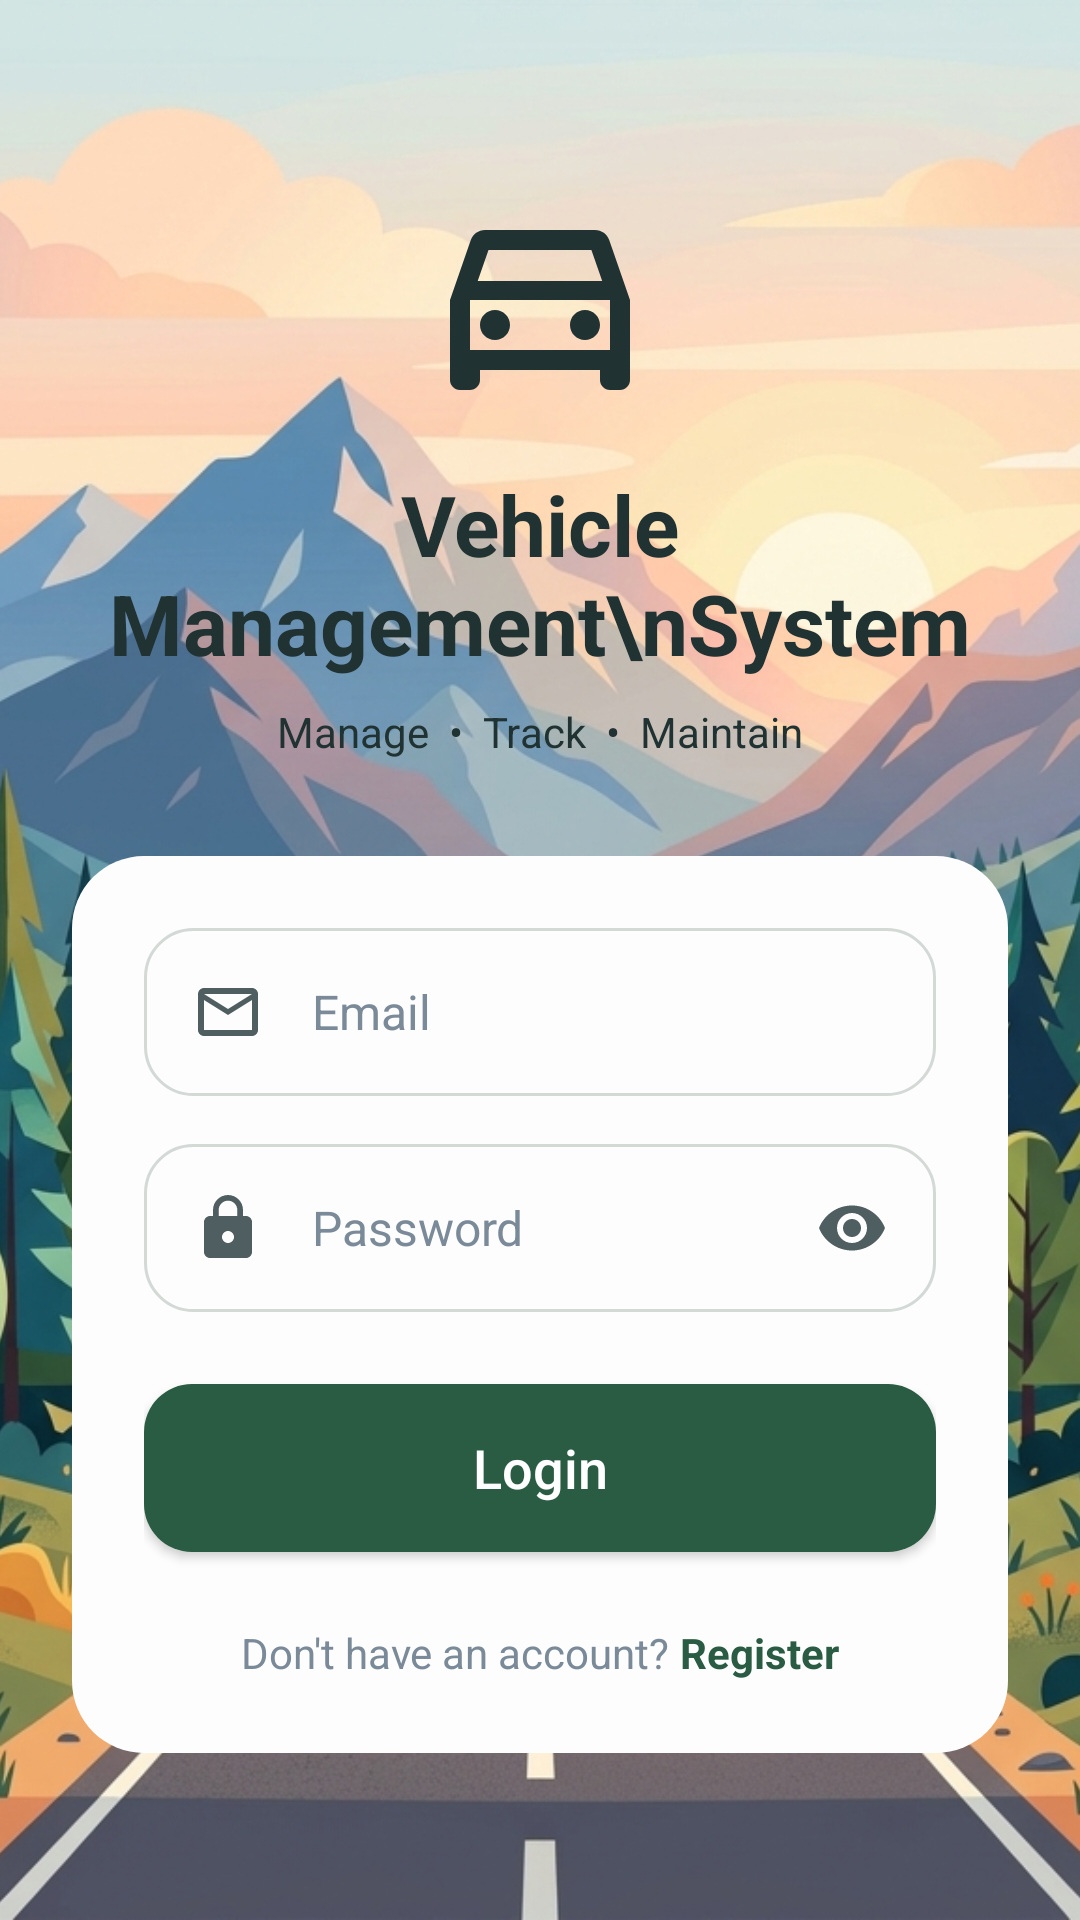

Icons on this 1080px×1920px Android screen, each with the point to tap as point (x, y):
eye: point (852, 1228)
lock: point (228, 1226)
